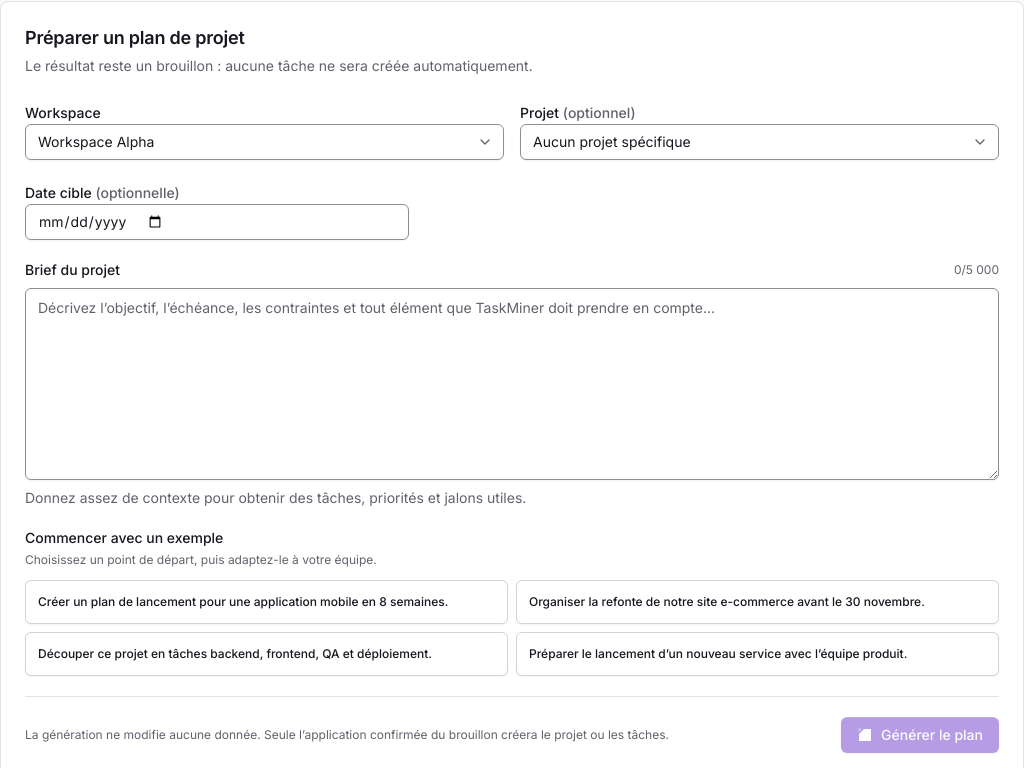
AIPage › renders quota and provider-unavailable generation errors safely
This screenshot has width=1024, height=768.
(page scrolled)
Type "Prepare a complete structured launch plan." into the text box labelled "Brief du projet" at (512, 384), box [25,288,999,480]
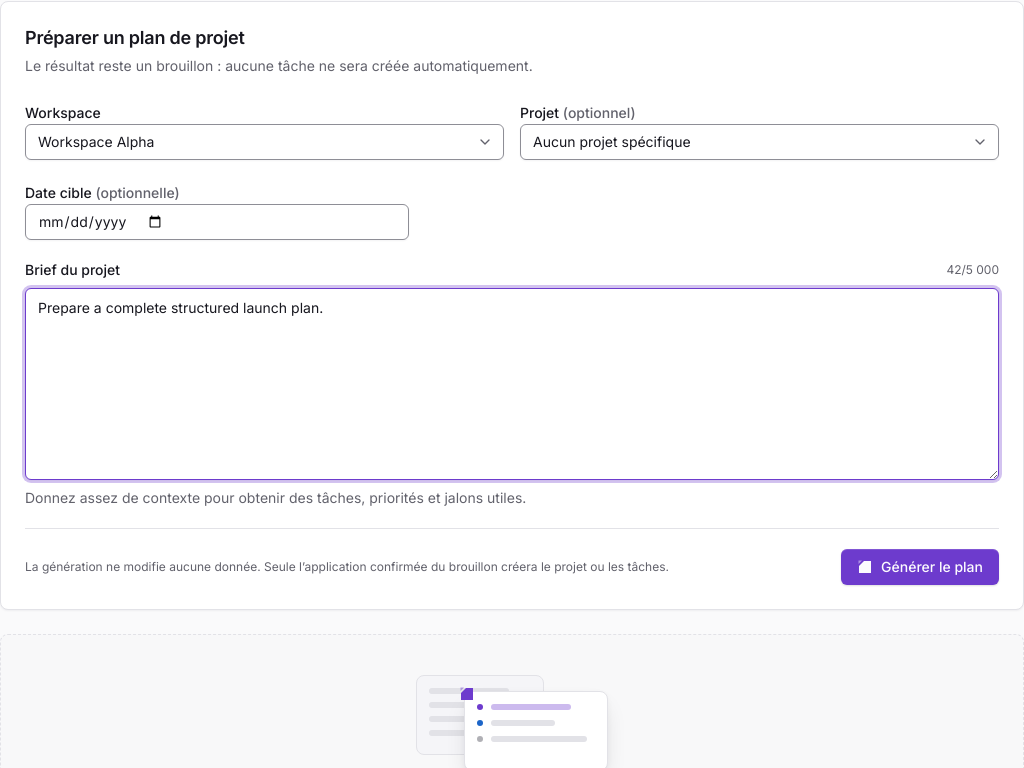
Click the button "Générer le plan" at (920, 567), box [841,549,999,585]
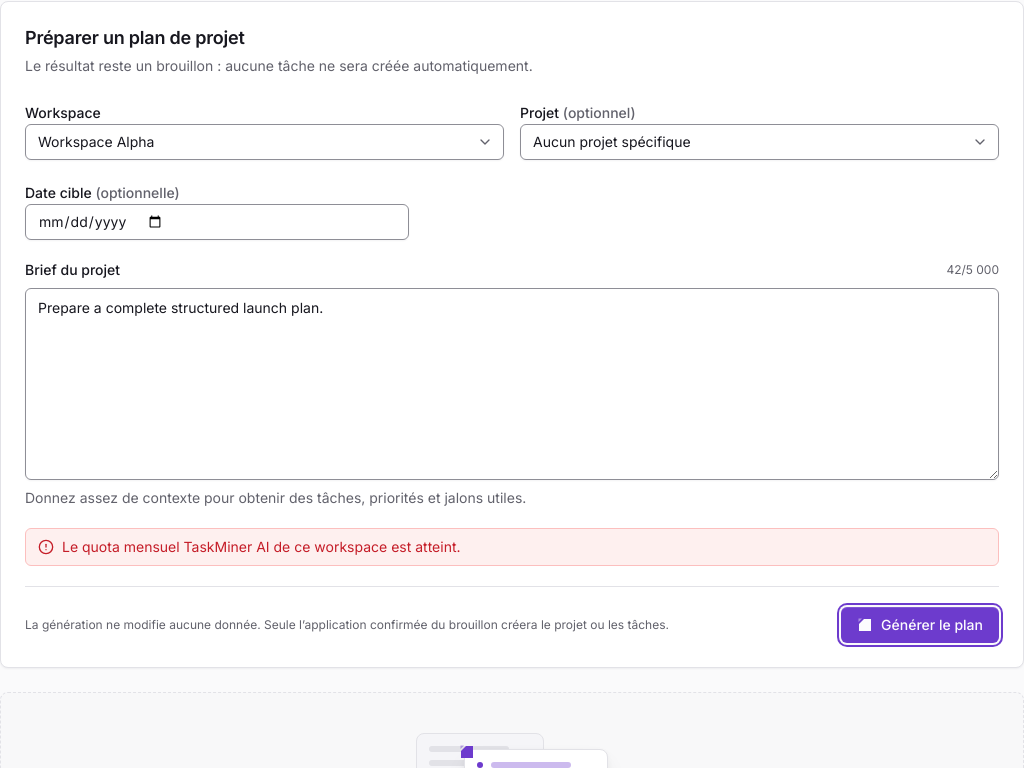
Expected: the text "Le quota mensuel TaskMiner AI de ce workspace est atteint." is shown, [62,537,460,557]
Click the button "Générer le plan" at (920, 625), box [841,607,999,643]
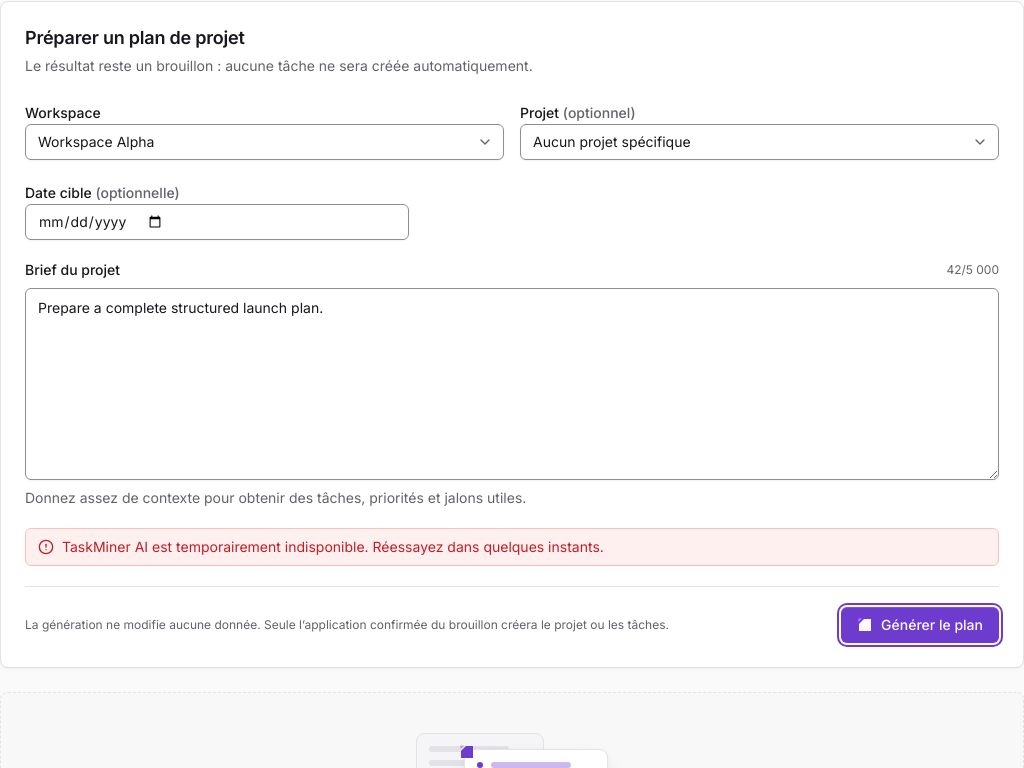
Expected: the text "TaskMiner AI est temporairement indisponible. Réessayez dans quelques instants." is shown, [62,537,604,557]
